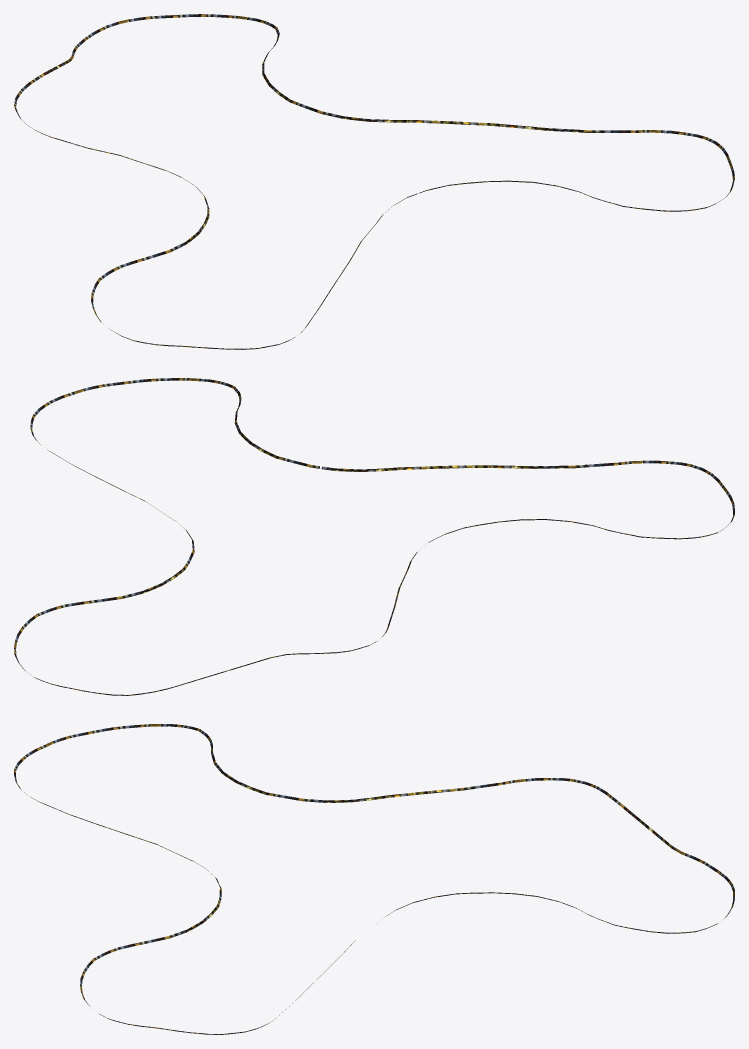
3 views of the same model, one above another, from view 1: azimuth 30°, elevation 25°; view 2: azimuth 150°, elevation 25°; view 3: azimuth 270°, elevation 25° (orthographic). The views are drawn at different scales.
Parts seen in each view (by area): view 1: SM_HK_00_02; view 2: SM_HK_00_02; view 3: SM_HK_00_02.
Part boxes in pixels (x1,y1,x2,y2): SM_HK_00_02: (14,14,734,349); SM_HK_00_02: (14,378,734,695); SM_HK_00_02: (14,724,734,1034).
Size of the model in its own units: 54978 by 2548 by 55354.
